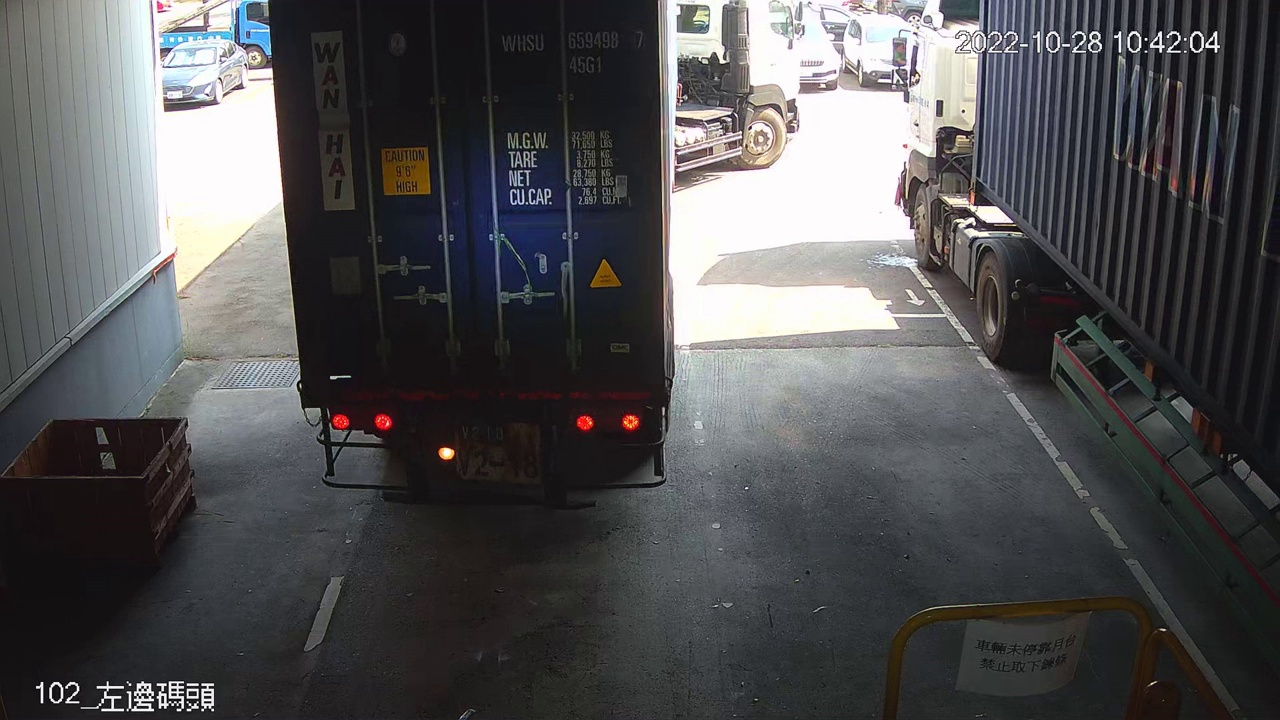container: (496, 24, 650, 77)
